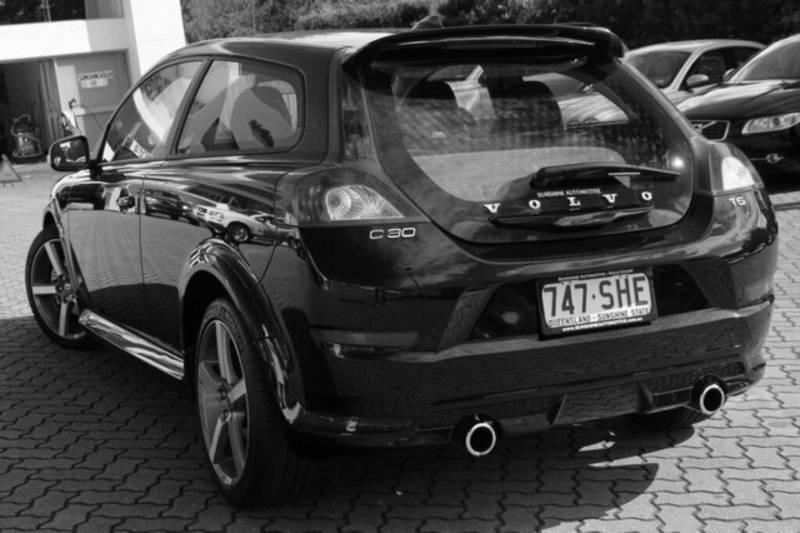car: (20, 18, 781, 515)
